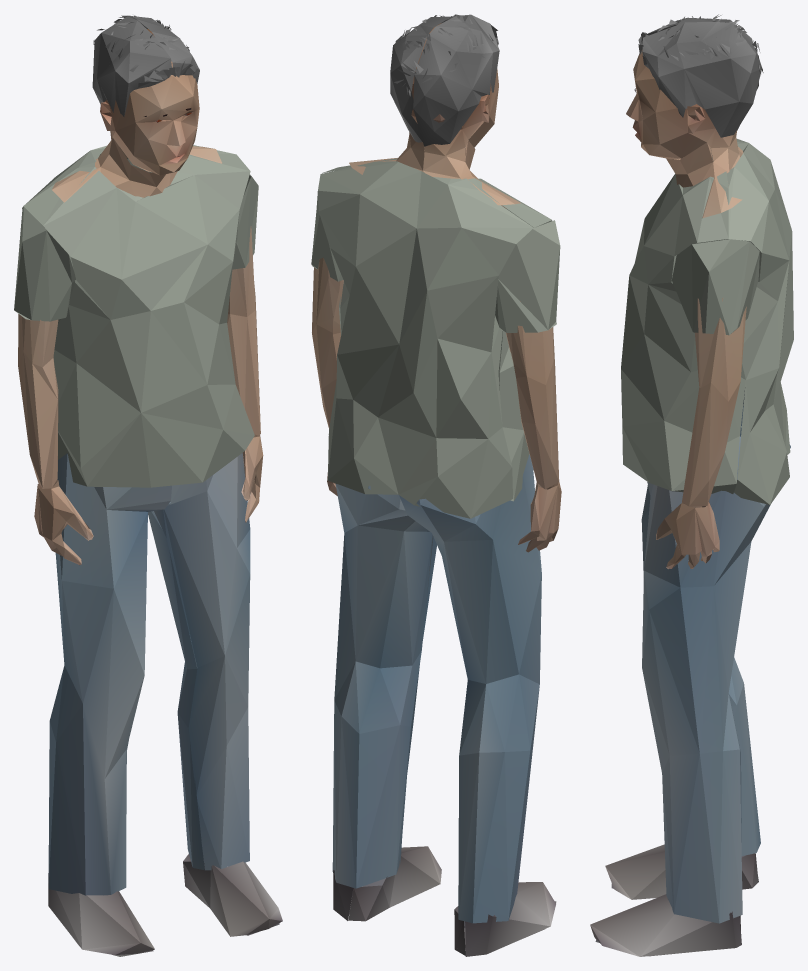
The model's file is person-7-far.glb.
The picture shows the model from 3 angles, left to right: view 1: azimuth 30°, elevation 25°; view 2: azimuth 150°, elevation 25°; view 3: azimuth 270°, elevation 25°; orthographic projection.
Visible parts, largest first — view 1: person-7 far; view 2: person-7 far; view 3: person-7 far.
Boxes of the visible parts, x1=… form: person-7 far: x1=14, y1=15, x2=282, y2=956; person-7 far: x1=311, y1=14, x2=561, y2=956; person-7 far: x1=590, y1=14, x2=793, y2=956.
Bounding box in the file's own units: 0.4732 × 1.7 × 0.3521.
